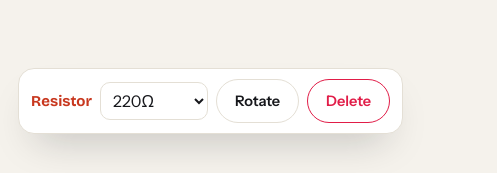
Test: Inspector › switching the dropdown to Custom reveals the number input
Select "Custom…" in the dropdown named "Resistance" at coordinates (154, 101), box x1=100 y1=82 x2=208 y2=120
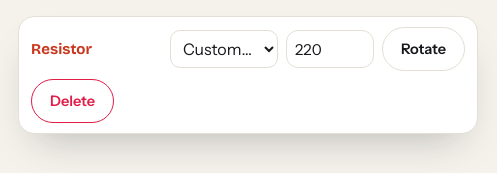
Result: the number field named "Custom resistance in ohms" is shown at x1=286 y1=30 x2=374 y2=68
